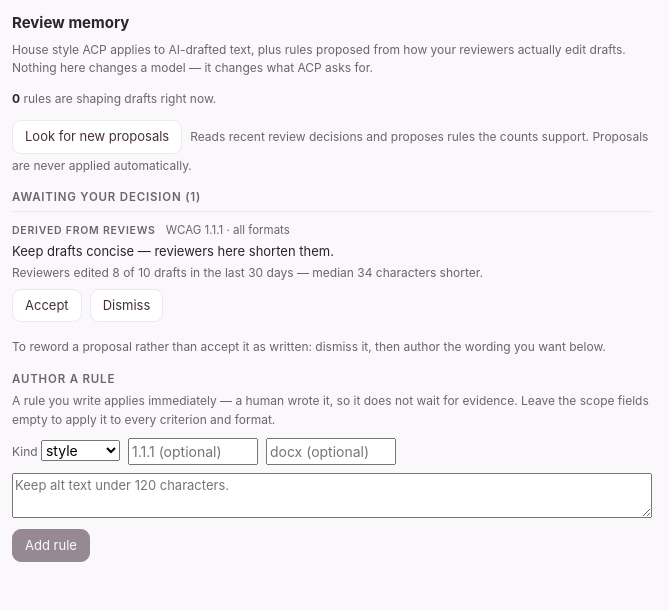
Test: decisions reach the backend and refetch rather than optimistically rendering › a rejected write says an admin is required instead of failing silently
The width and height of the screenshot is (669, 610).
Click the button "Accept" at (47, 306), box left=12, top=289, right=82, bottom=322
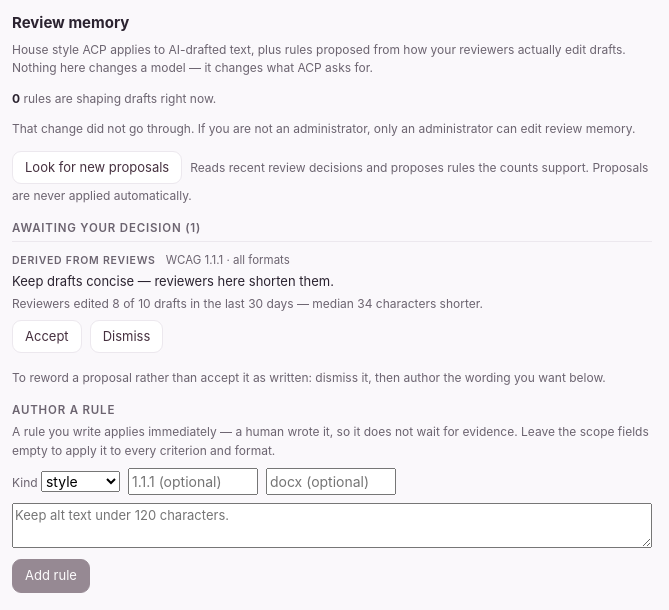
Result: the text with class "rm-error" is shown at left=12, top=120, right=652, bottom=139
Result: the text "only an administrator" is shown at left=12, top=121, right=635, bottom=136
